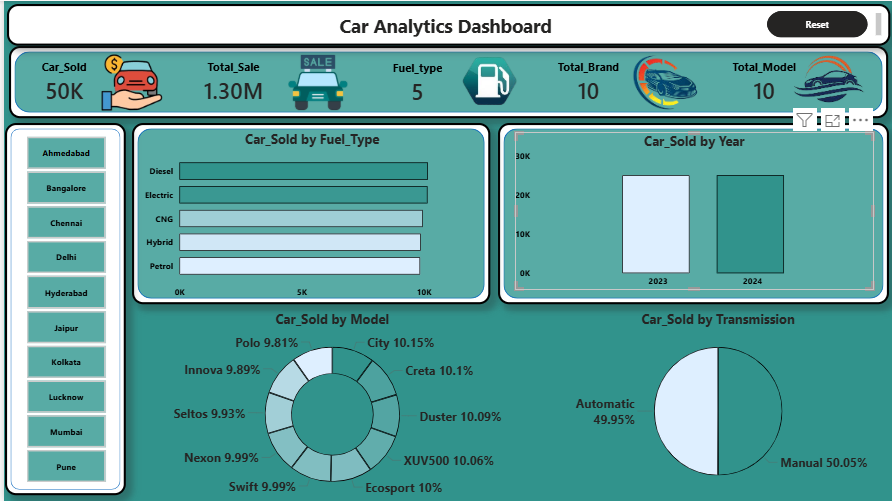

The page's visual inventory and layout, read from the dashboard file:
{"tool":"powerbi","page":{"name":"Page 1","canvas":[1280,720],"ordinal":0},"visuals":[{"type":"shape","box":[7,64.8,1265.8,103.7],"z":0},{"type":"cardVisual","fields":{"Data":["Measure_Table.Car_Sold"]},"box":[28.8,63.4,116.6,105.1],"z":1000},{"type":"textbox","box":[5,4,1271.5,60.5],"z":2000},{"type":"shape","box":[711.4,175.7,563,260.6],"z":3000},{"type":"shape","box":[184.3,175.7,515.5,260.6],"z":4000},{"type":"shape","box":[2,176,174.2,536],"z":5000},{"type":"cardVisual","fields":{"Data":["Measure_Table.Total_Sale"]},"box":[266.4,63.4,128.2,105.1],"z":6000},{"type":"cardVisual","fields":{"Data":["Measure_Table.Total_Fuel_type"]},"box":[532.8,64.8,125.3,105.1],"z":7000},{"type":"cardVisual","fields":{"Data":["Measure_Table.Total_Brand"]},"box":[776.2,63.4,131,105.1],"z":8000},{"type":"cardVisual","fields":{"Data":["Measure_Table.Total_Model"]},"box":[1028.2,63.4,133.9,105.1],"z":9000},{"type":"slicer","fields":{"Values":["MASTER_DATA.City"]},"box":[7.2,188.6,162.7,511.2],"z":10000},{"type":"clusteredBarChart","fields":{"Category":["MASTER_DATA.Fuel_Type"],"Y":["Measure_Table.Car_Sold"]},"box":[201.6,186.5,485.5,246.9],"z":11000},{"type":"image","box":[139.7,74.9,89.3,85],"z":12000},{"type":"image","box":[394.6,74.9,115.2,85],"z":13000},{"type":"image","box":[627.8,56.2,142.6,119.5],"z":14000},{"type":"image","box":[882.7,49,139.7,136.8],"z":15000},{"type":"image","box":[1131.8,56.2,112.3,112.3],"z":16000},{"type":"donutChart","fields":{"Y":["Measure_Table.Car_Sold"],"Category":["MASTER_DATA.Model"]},"box":[198.2,445.1,549.3,275.5],"z":17000},{"type":"pieChart","fields":{"Y":["Measure_Table.Car_Sold"],"Category":["MASTER_DATA.Transmission"]},"box":[803.5,445,450.7,266.4],"z":18000},{"type":"columnChart","fields":{"Y":["Measure_Table.Car_Sold"],"Category":["MASTER_DATA.Expiry_Date.Variation.Date Hierarchy.Year"]},"box":[735.7,188.1,517.4,228.5],"z":19000},{"type":"bookmarkNavigator","box":[1098.7,14.4,145.4,38.9],"z":20000}]}

Visuals, with their boxes in screenshot pixels (x1, y1, x2, y2), scaled from the page's 1280x720 canvas onto the 892x501 screenshot:
shape: x1=5, y1=45, x2=887, y2=117
cardVisual - Measure_Table.Car_Sold: x1=20, y1=44, x2=101, y2=117
textbox: x1=3, y1=3, x2=890, y2=45
shape: x1=496, y1=122, x2=888, y2=304
shape: x1=128, y1=122, x2=488, y2=304
shape: x1=1, y1=122, x2=123, y2=495
cardVisual - Measure_Table.Total_Sale: x1=186, y1=44, x2=275, y2=117
cardVisual - Measure_Table.Total_Fuel_type: x1=371, y1=45, x2=459, y2=118
cardVisual - Measure_Table.Total_Brand: x1=541, y1=44, x2=632, y2=117
cardVisual - Measure_Table.Total_Model: x1=717, y1=44, x2=810, y2=117
slicer - MASTER_DATA.City: x1=5, y1=131, x2=118, y2=487
clusteredBarChart - MASTER_DATA.Fuel_Type x Measure_Table.Car_Sold: x1=140, y1=130, x2=479, y2=302
image: x1=97, y1=52, x2=160, y2=111
image: x1=275, y1=52, x2=355, y2=111
image: x1=437, y1=39, x2=537, y2=122
image: x1=615, y1=34, x2=712, y2=129
image: x1=789, y1=39, x2=867, y2=117
donutChart - Measure_Table.Car_Sold x MASTER_DATA.Model: x1=138, y1=310, x2=521, y2=500
pieChart - Measure_Table.Car_Sold x MASTER_DATA.Transmission: x1=560, y1=310, x2=874, y2=495
columnChart - Measure_Table.Car_Sold x MASTER_DATA.Expiry_Date.Variation.Date Hierarchy.Year: x1=513, y1=131, x2=873, y2=290
bookmarkNavigator: x1=766, y1=10, x2=867, y2=37
